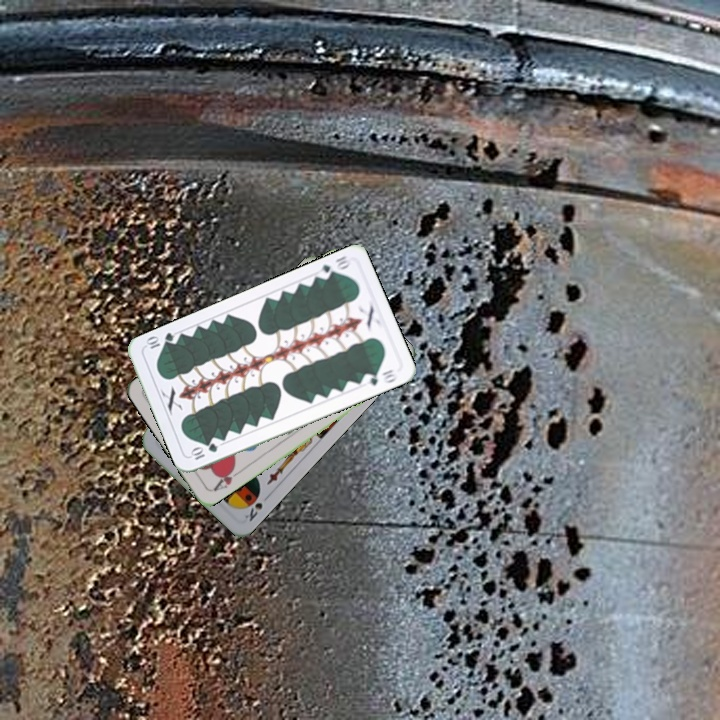G10: (313, 252, 354, 282), (187, 439, 220, 463)
HA: (209, 461, 244, 494)
SK: (241, 498, 265, 524)
